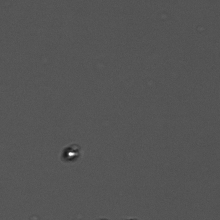Living Cell: (61, 142, 81, 163)
